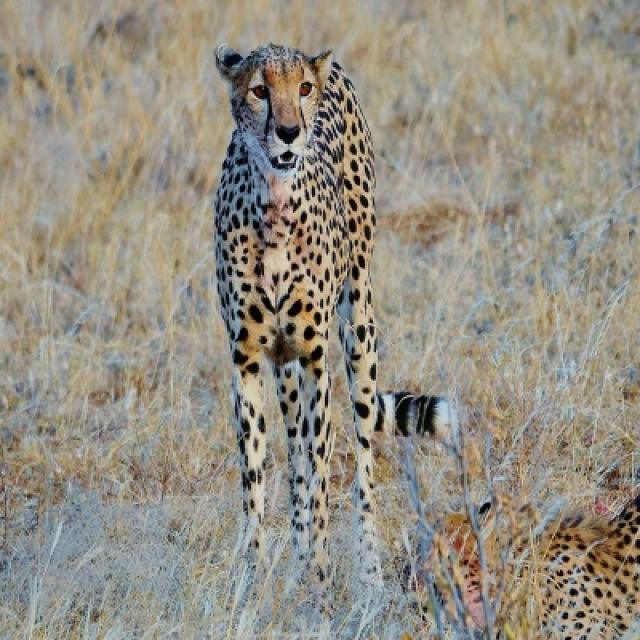Cheetah: (213, 45, 438, 571)
